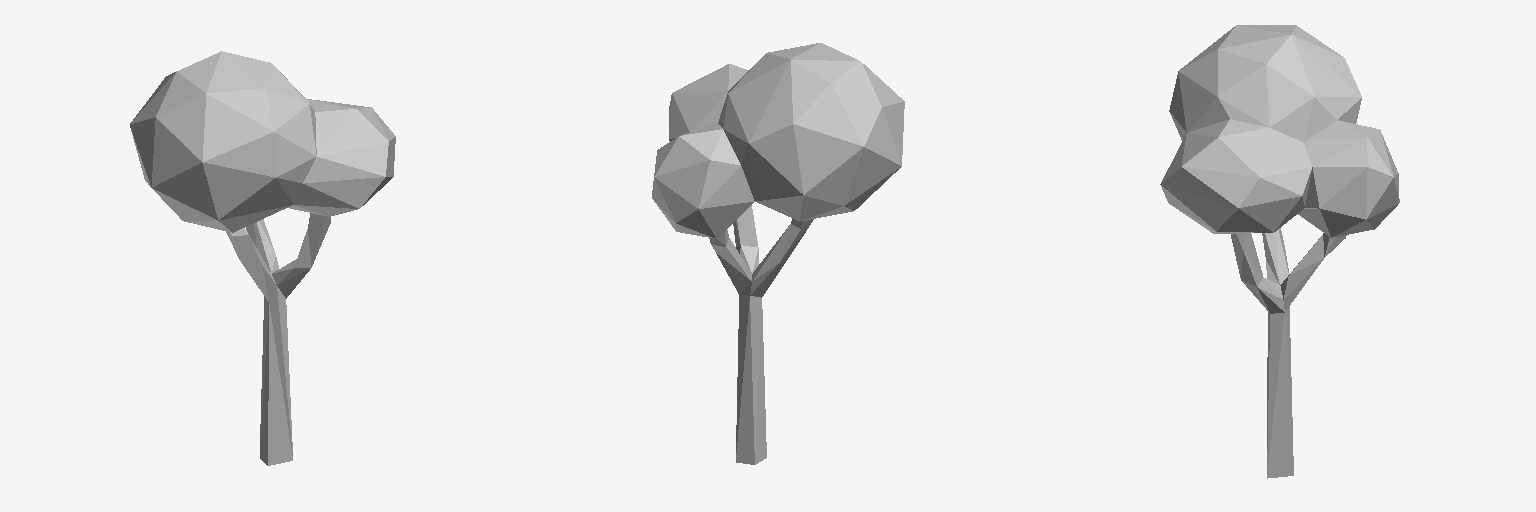
File: tree_02.obj
The picture shows the model from 3 angles: view 1: azimuth 30°, elevation 25°; view 2: azimuth 150°, elevation 25°; view 3: azimuth 270°, elevation 25°; orthographic projection.
Visible parts, largest first — view 1: Cylinder.002; view 2: Cylinder.002; view 3: Cylinder.002.
Part boxes in pixels (x1,y1,x2,y2): Cylinder.002: (130, 51, 395, 465); Cylinder.002: (652, 43, 904, 464); Cylinder.002: (1160, 25, 1399, 478).
Size of the model in its own units: 10.31 by 17.15 by 8.96.